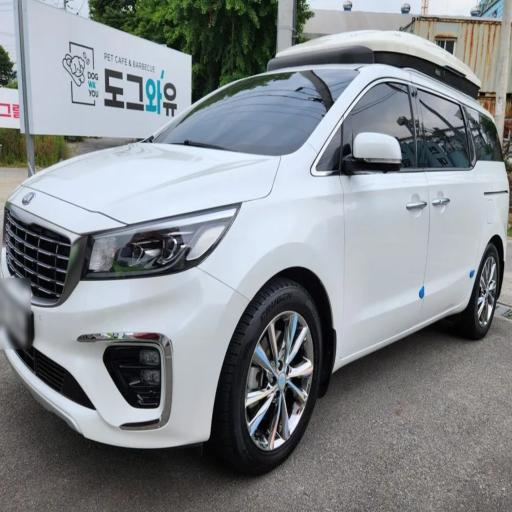dent: (87, 117, 260, 216)
